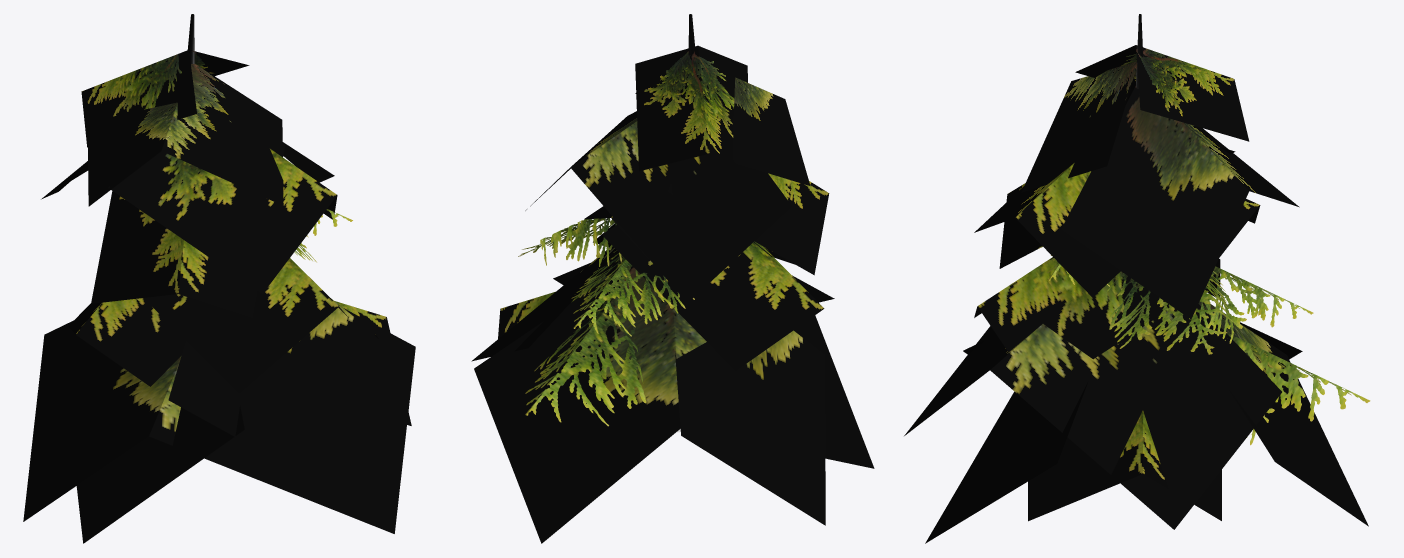
The model's file is Cyprus3.fbx.
The picture shows the model from 3 angles, left to right: view 1: azimuth 30°, elevation 25°; view 2: azimuth 150°, elevation 25°; view 3: azimuth 270°, elevation 25°; orthographic projection. The views are drawn at different scales.
Visible parts, largest first — view 1: Tree3; view 2: Tree3; view 3: Tree3.
Boxes of the visible parts, x1,y1,x2,y2 form: Tree3: (23,14,415,543); Tree3: (471,14,874,543); Tree3: (904,14,1370,543).
Size of the model in its own units: 2239 by 2815 by 2508.
